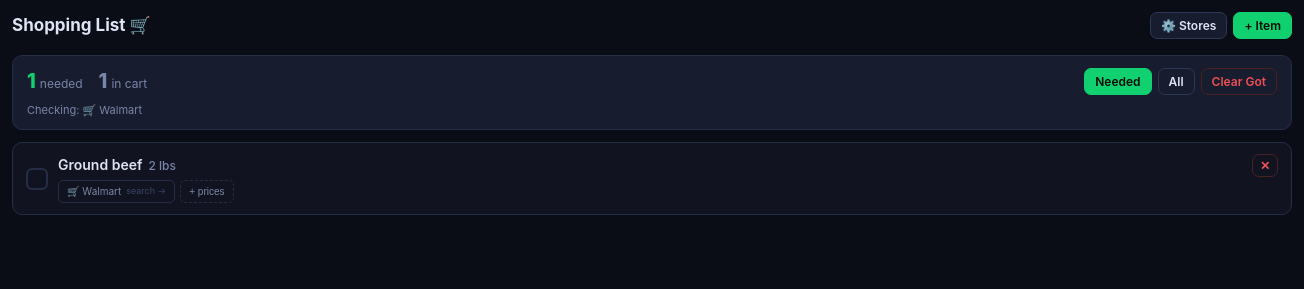
Scenario: shopping list › a failed save puts the item back and says so
This screenshot has width=1304, height=289.
Click the element with class "shop-check" at (37, 178), box [26, 168, 48, 190]
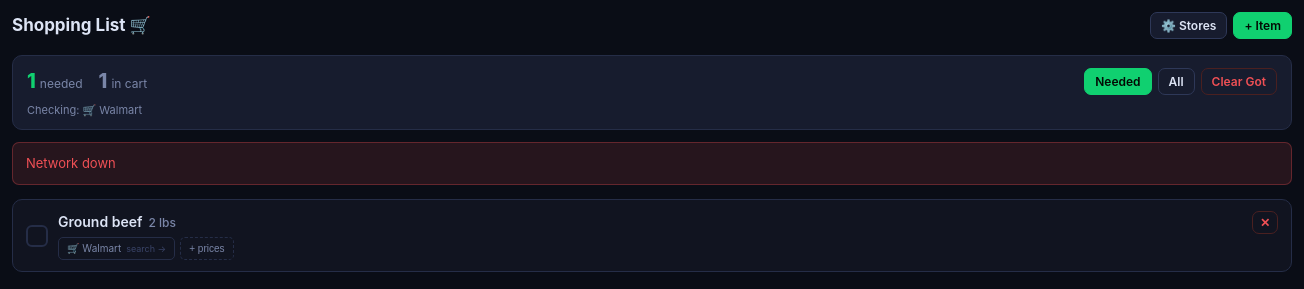
Expected: the text "Network down" is shown, [12, 142, 1292, 185]
